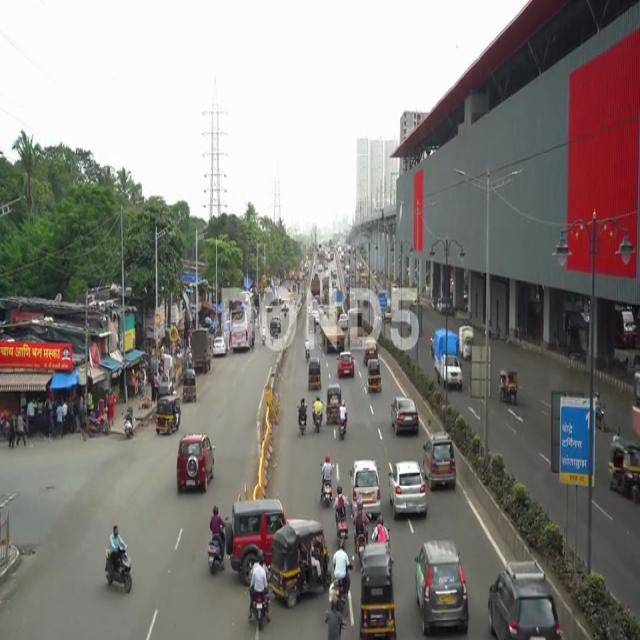car: (483, 559, 558, 640), (413, 545, 469, 633), (176, 432, 217, 494), (420, 432, 460, 492), (389, 462, 426, 516), (388, 396, 421, 433), (336, 351, 356, 379)
motorbike: (100, 518, 136, 598), (248, 552, 272, 632), (206, 503, 223, 579), (334, 480, 349, 546), (318, 449, 332, 511), (312, 392, 326, 438), (337, 400, 351, 444), (296, 392, 309, 439)
rikshaw: (274, 527, 331, 606), (361, 544, 396, 640), (607, 440, 640, 503), (499, 367, 519, 408), (367, 359, 382, 394)
truck: (430, 330, 461, 388)
